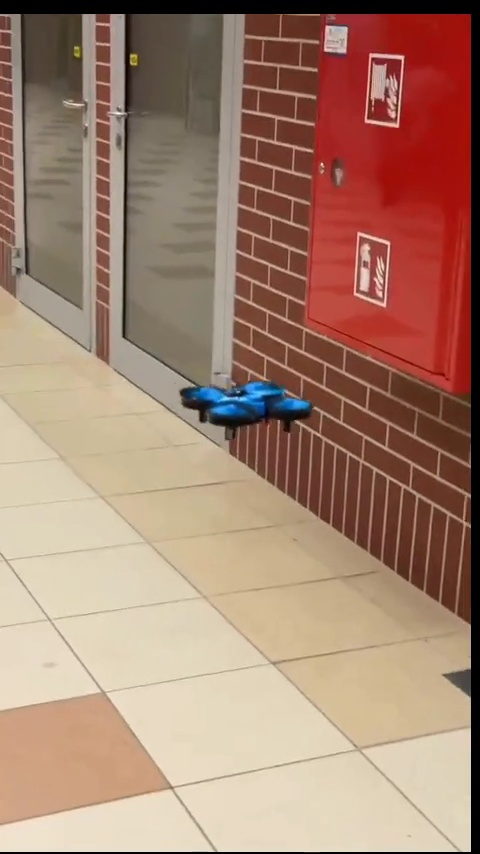drone: (180, 377, 307, 429)
